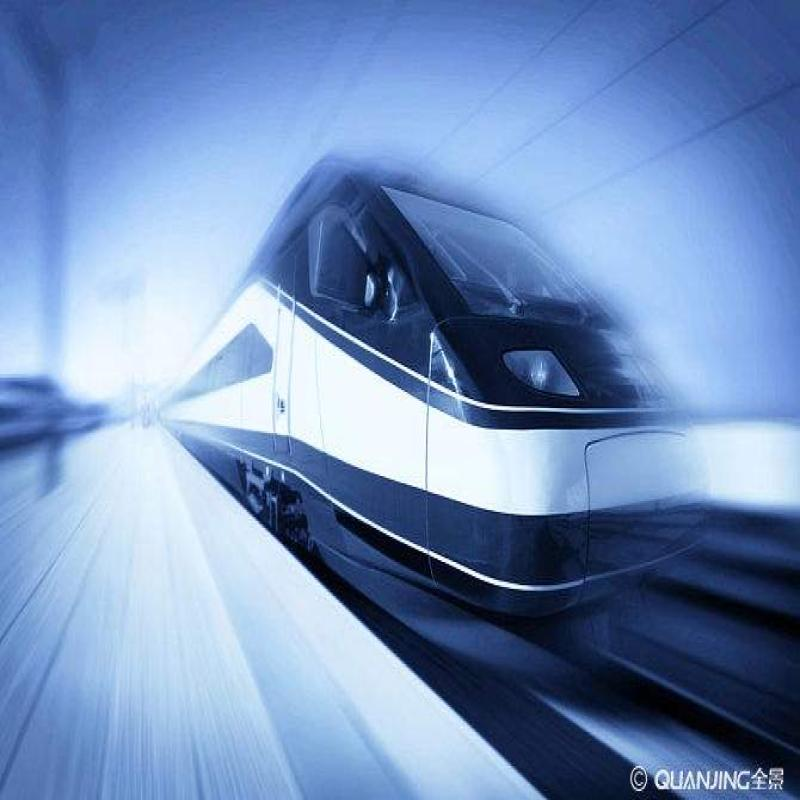train: (171, 182, 688, 620)
